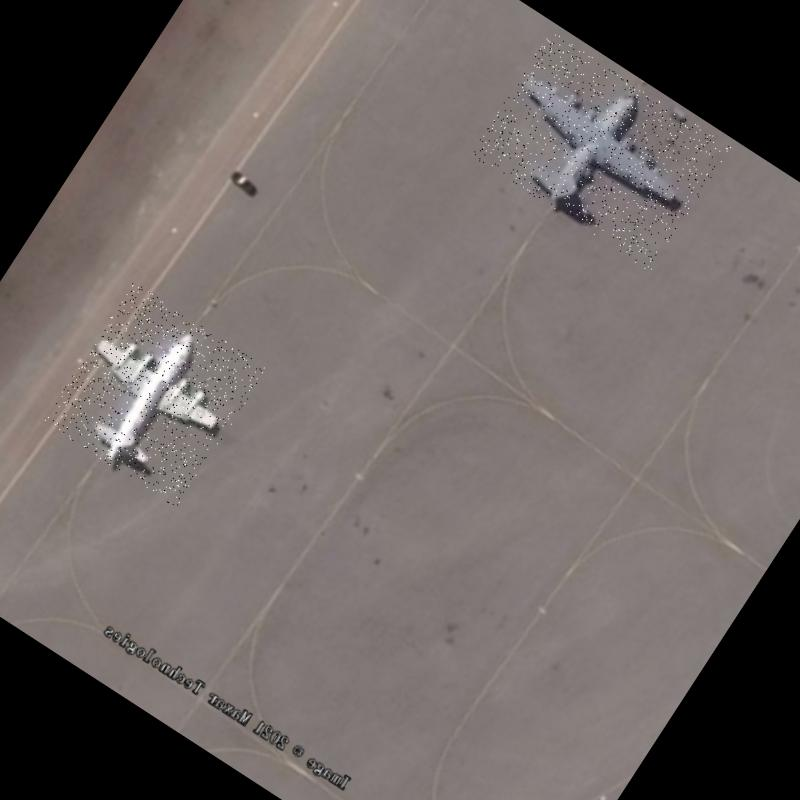A2: (470, 30, 730, 272)
A9: (43, 282, 268, 509)
